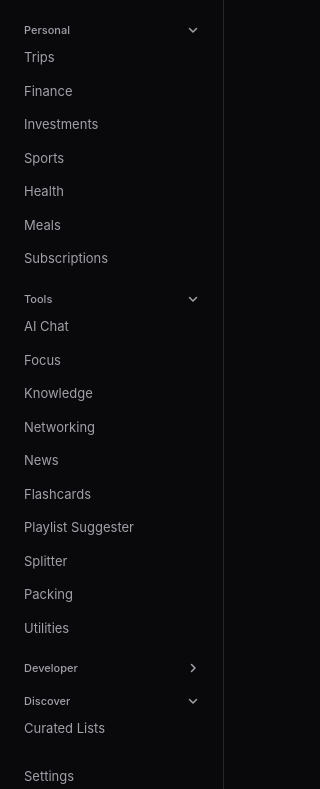
it: Sidebar collapsible groups › clicking Developer label expands it
The image size is (320, 789).
(page scrolled)
Expected: the text "Dev Tools" is not shown
Click the button "Developer" at (112, 668), box [12, 660, 211, 676]
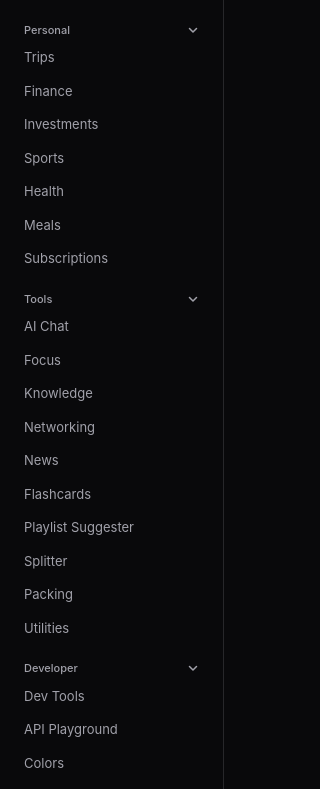
Result: the link "Dev Tools" is shown at [24, 688, 85, 704]
Result: the link "API Playground" is shown at [24, 721, 118, 737]
